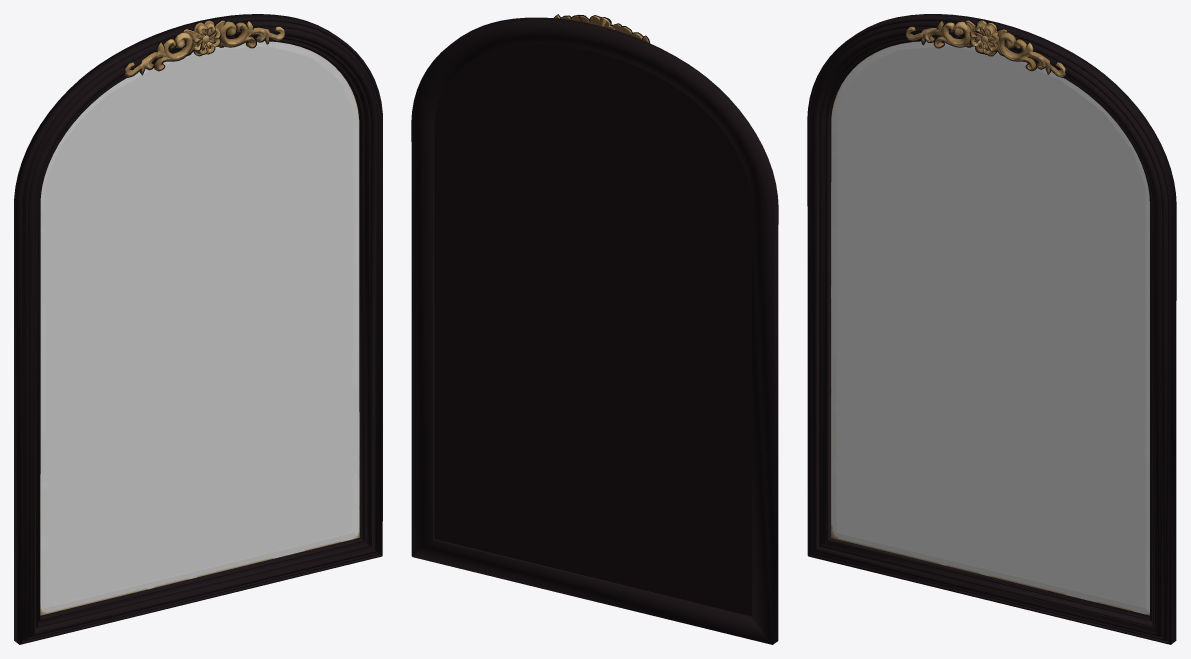
The model's file is SM_Int_Mirror.fbx.
3 views of the same model, side by side, from view 1: azimuth 30°, elevation 25°; view 2: azimuth 150°, elevation 25°; view 3: azimuth 330°, elevation 25° (orthographic).
Parts seen in each view (by area): view 1: SM_Int_Mirror; view 2: SM_Int_Mirror; view 3: SM_Int_Mirror.
Boxes of the visible parts, <box> form: SM_Int_Mirror: <box>14,14,382,644</box>; SM_Int_Mirror: <box>411,14,778,644</box>; SM_Int_Mirror: <box>807,14,1176,644</box>.
Bounding box in the file's own units: 0.7882 × 1.2 × 0.0453.
